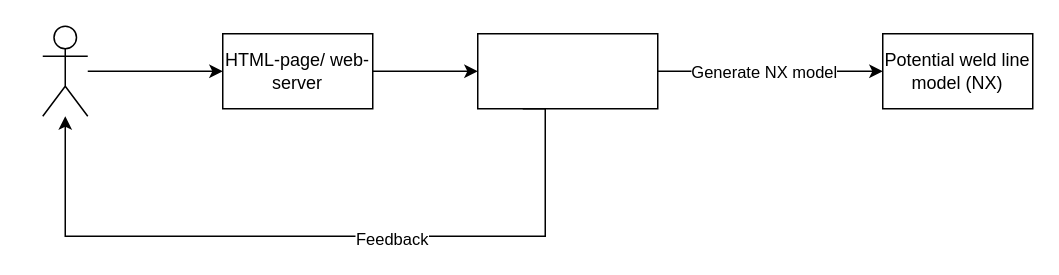
Image size: 1059x275. Some labels were removed from this diagram. Here are the shapes that lost their labels. From the top down, the box of each, then its label:
(41, 25, 88, 116): Customer
(476, 32, 658, 109): readDFA_server.py
